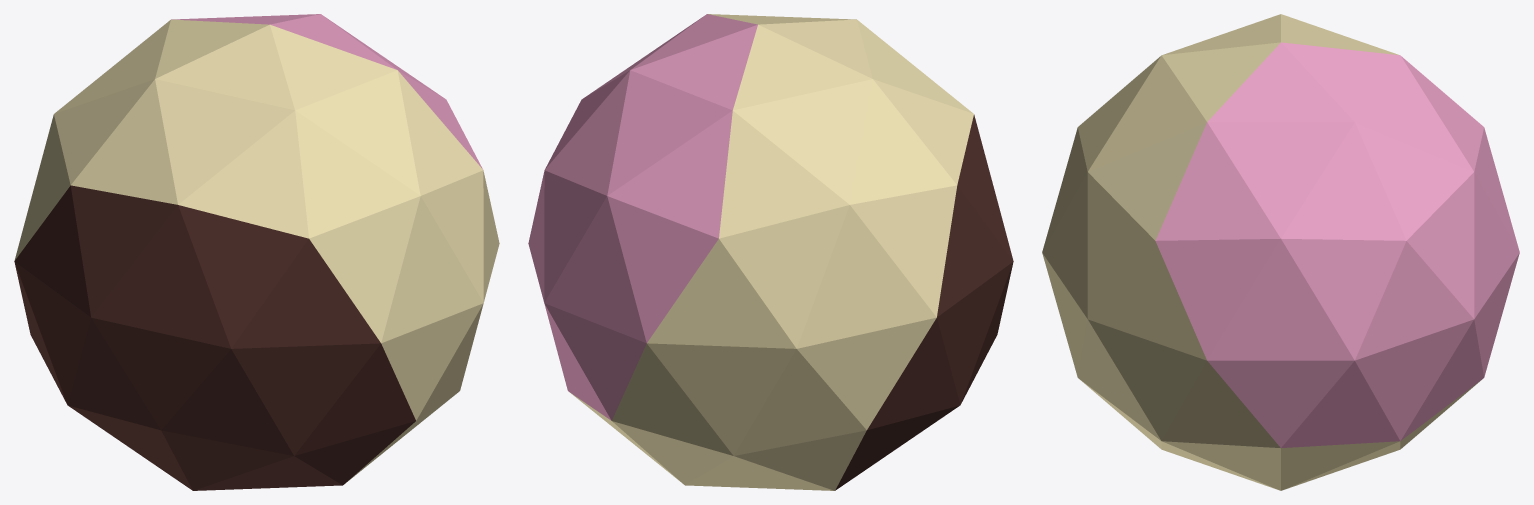
Rendered from drop_sorvete.fbx.
3 renders of one model, left to right at view 1: azimuth 30°, elevation 25°; view 2: azimuth 150°, elevation 25°; view 3: azimuth 270°, elevation 25°, orthographic. The views are drawn at different scales.
Parts seen in each view (by area): view 1: Icosphere; view 2: Icosphere; view 3: Icosphere.
Part boxes in pixels (<box>): Icosphere: <box>14,14,499,490</box>; Icosphere: <box>528,14,1013,490</box>; Icosphere: <box>1042,14,1519,490</box>.
Size of the model in its own units: 190 by 200 by 200.
